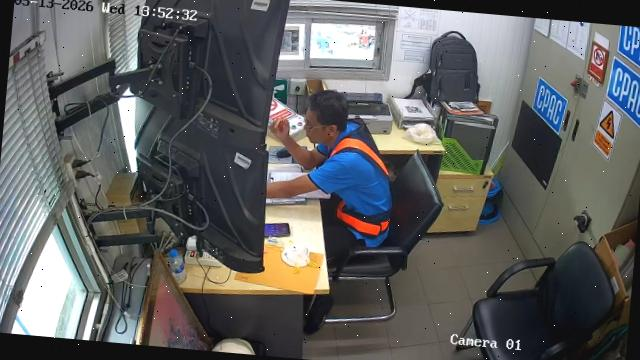Head: (305, 91, 348, 146)
People: (268, 90, 393, 262)
Phone: (264, 223, 290, 237)
